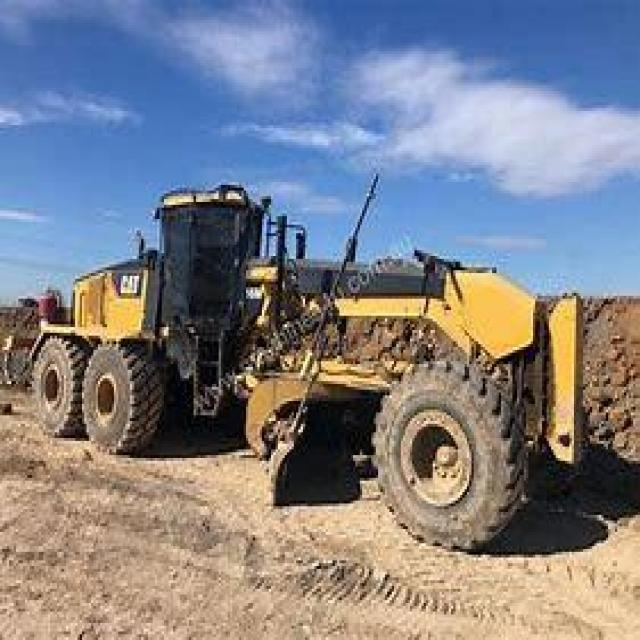Grader: (23, 170, 606, 554)
